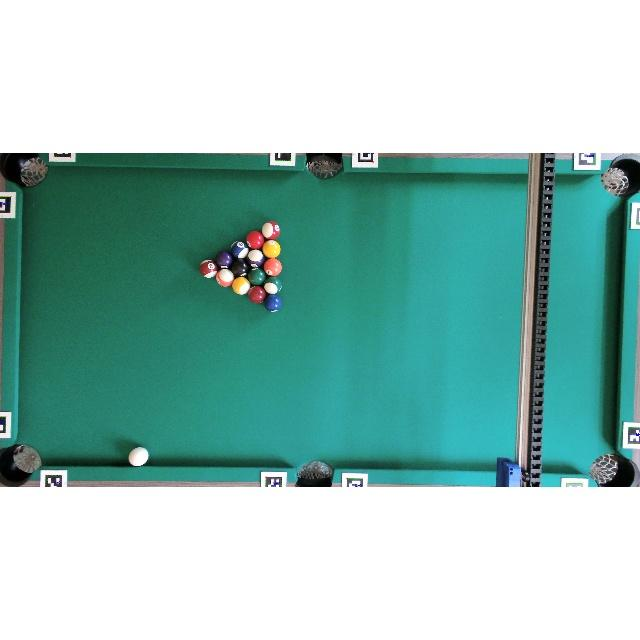cue ball: (128, 447, 149, 467)
other: (230, 258, 250, 278), (246, 230, 265, 250), (216, 268, 235, 288), (199, 259, 218, 278), (230, 241, 250, 259), (264, 258, 282, 277), (248, 285, 266, 304), (262, 221, 280, 240), (246, 250, 265, 268), (232, 277, 250, 295), (263, 240, 281, 258), (248, 268, 266, 286), (264, 294, 282, 312), (215, 250, 233, 268), (264, 277, 283, 294)
